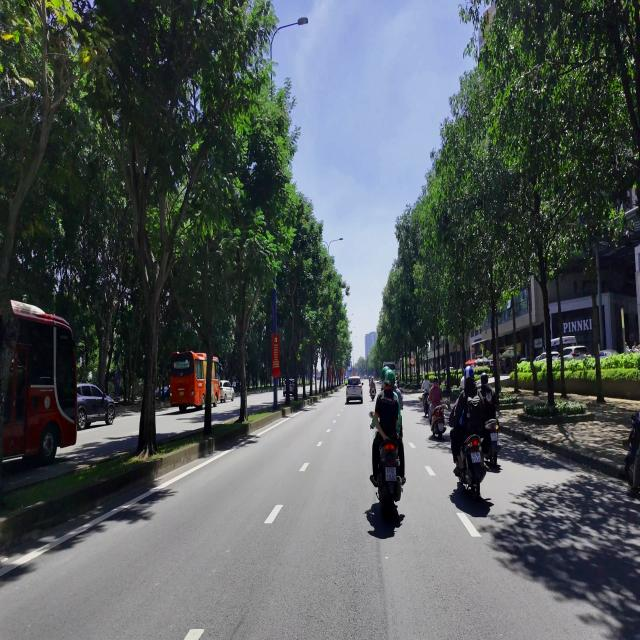car: (77, 384, 115, 430), (346, 376, 363, 403), (220, 381, 234, 401)
motorcycle: (377, 440, 402, 519), (458, 435, 486, 499), (624, 413, 639, 487), (484, 420, 500, 467), (431, 405, 445, 439), (370, 387, 376, 400)
